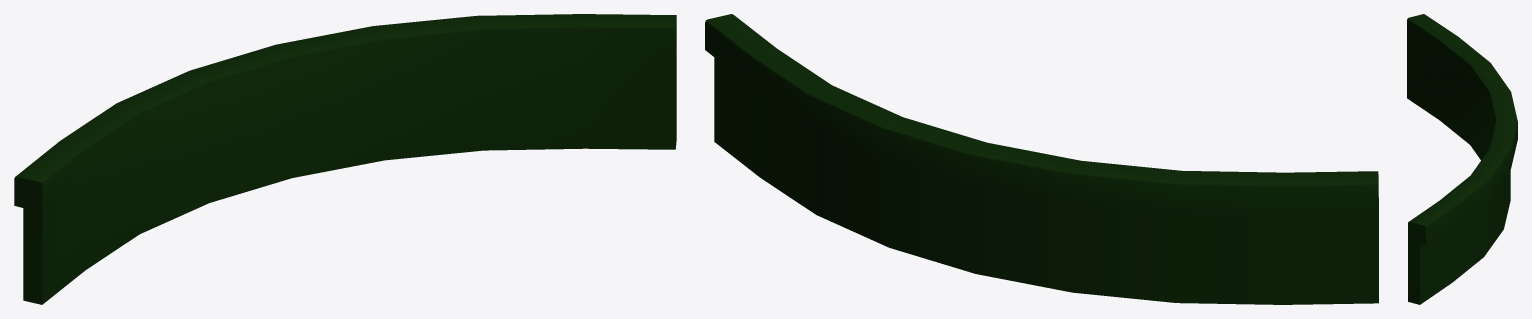
The model's file is round-wall-1.fbx.
The picture shows the model from 3 angles, left to right: view 1: azimuth 30°, elevation 25°; view 2: azimuth 150°, elevation 25°; view 3: azimuth 270°, elevation 25°; orthographic projection. The views are drawn at different scales.
Visible parts, largest first — view 1: round-wall-1; view 2: round-wall-1; view 3: round-wall-1.
Boxes of the visible parts, x1,y1,x2,y2 form: round-wall-1: (14, 14, 676, 304); round-wall-1: (705, 14, 1378, 304); round-wall-1: (1407, 14, 1517, 304).
Size of the model in its own units: 28.4 by 5 by 6.26.
